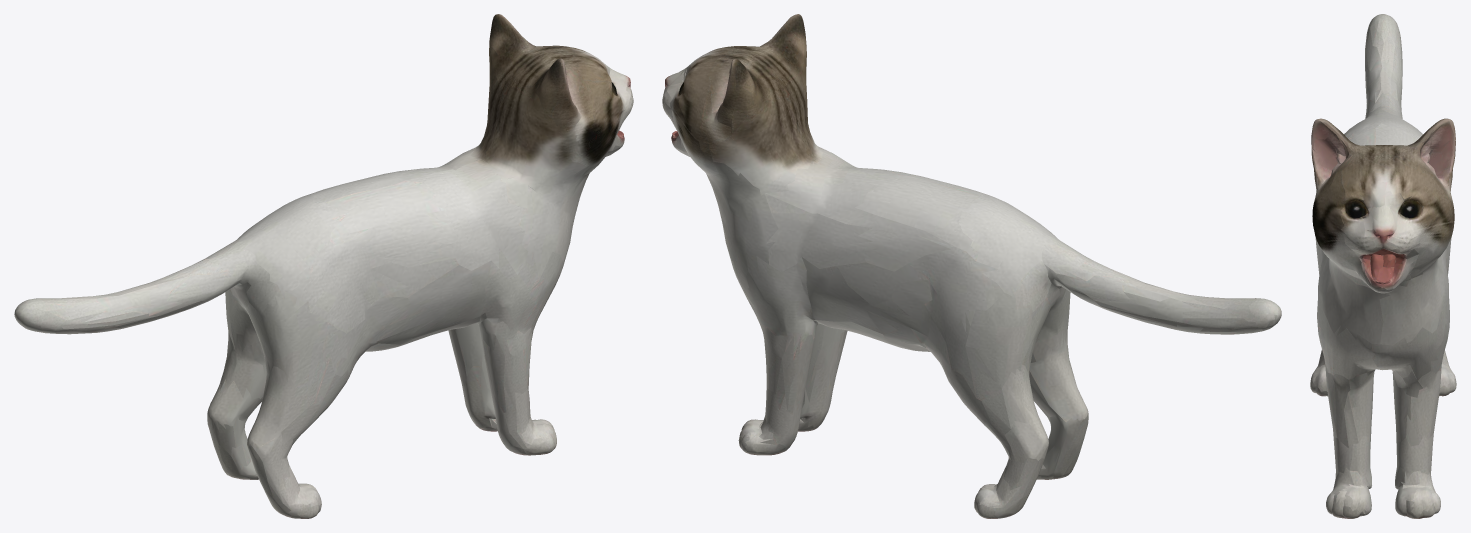
The model's file is popcat.glb.
The picture shows the model from 3 angles, left to right: view 1: azimuth 30°, elevation 25°; view 2: azimuth 150°, elevation 25°; view 3: azimuth 270°, elevation 25°; orthographic projection.
Parts seen in each view (by area): view 1: fit; view 2: fit; view 3: fit.
Part boxes in pixels (x1,y1,x2,y2): fit: (14, 14, 633, 518); fit: (662, 14, 1281, 518); fit: (1310, 14, 1456, 518).
Bounding box in the file's own units: 1.62 × 1 × 0.3309.
1 material, 1 textured.
